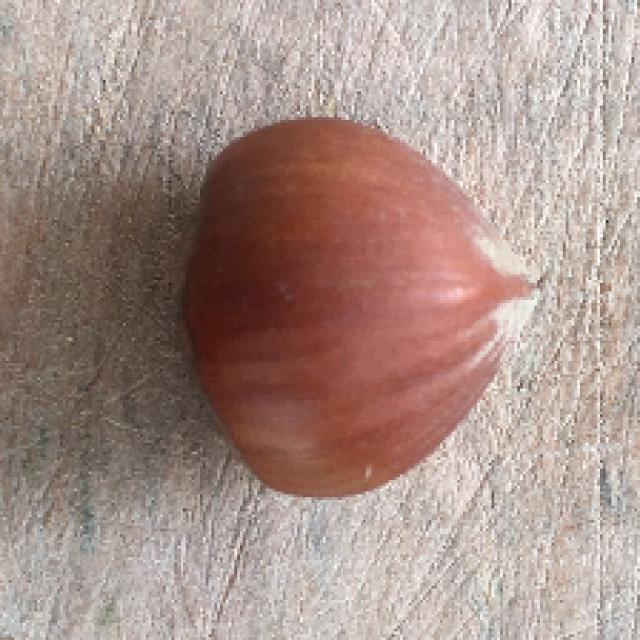qualityHazelnut: (171, 115, 544, 508)
